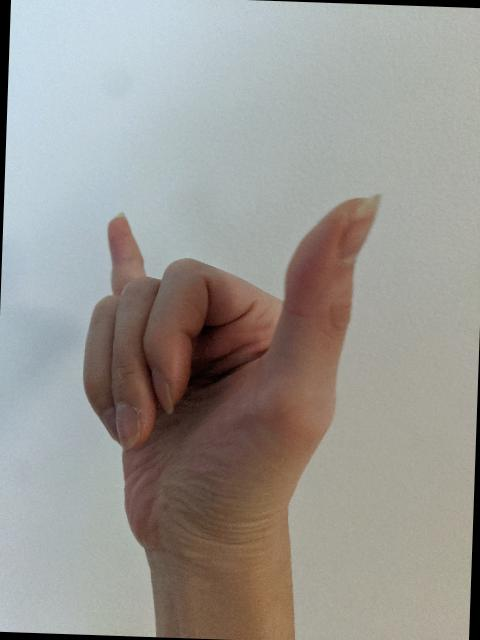Y: (71, 178, 387, 564)
